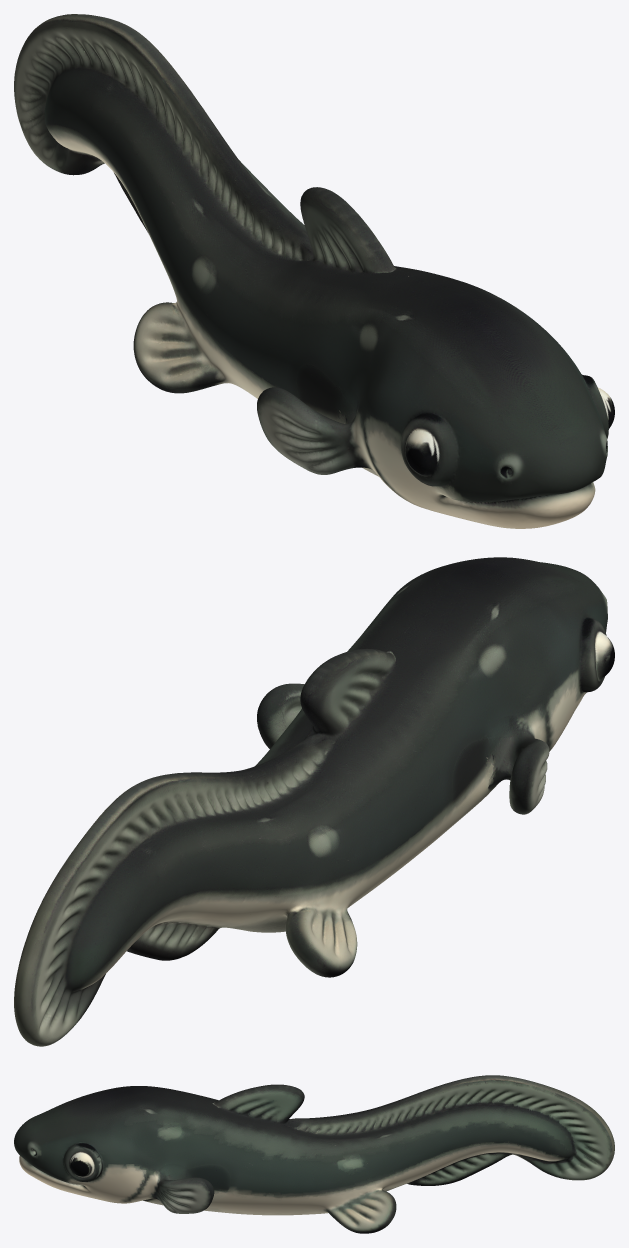
File: Anguille.fbx
The picture shows the model from 3 angles, top to bottom: view 1: azimuth 30°, elevation 25°; view 2: azimuth 150°, elevation 25°; view 3: azimuth 270°, elevation 25°; orthographic projection. The views are drawn at different scales.
Parts seen in each view (by area): view 1: Mesh_0; view 2: Mesh_0; view 3: Mesh_0.
Boxes of the visible parts, box(x1,y1,x2,y2) form: Mesh_0: box(14, 14, 614, 528); Mesh_0: box(14, 557, 614, 1046); Mesh_0: box(14, 1075, 614, 1233).
Bounding box in the file's own units: 54.11 × 47.36 × 190.
1 material, 1 textured.
